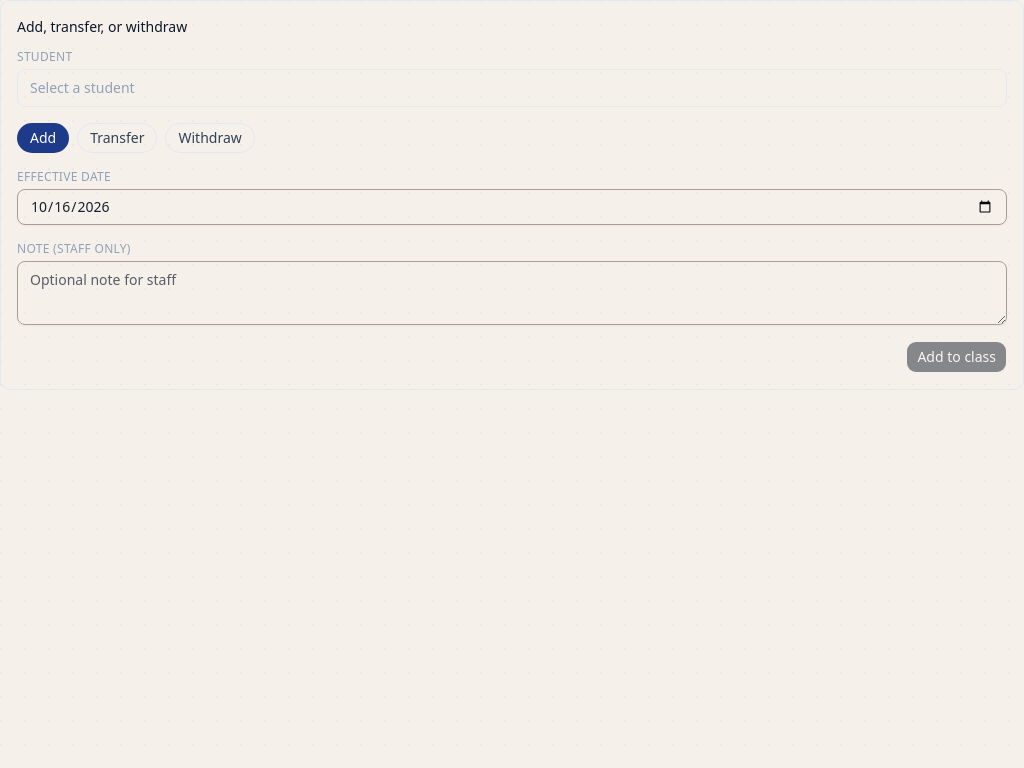
EnrolmentComposer — fields + action toggle (AC3, AC4) › P0 Add shows a target-class picker and NO source-class field
Click the button with test id "enrolment-student-combobox": click(82, 88) 17,69 -> 1007,107
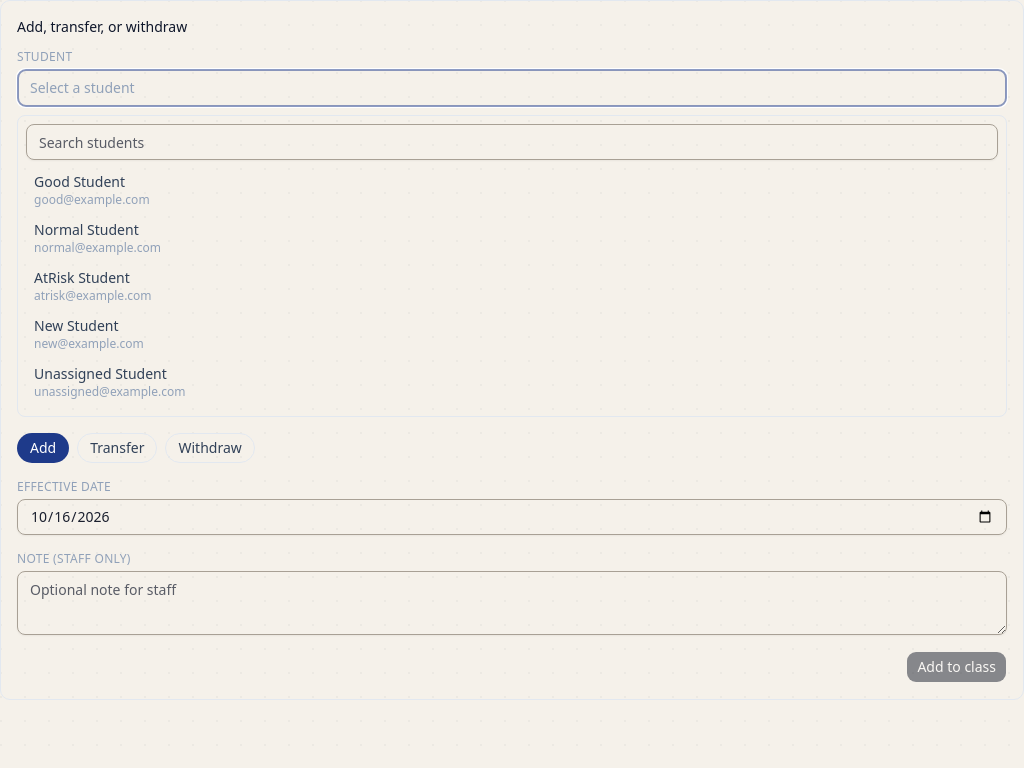
Click the option "Normal Student normal@example.com": click(86, 230) 26,216 -> 998,260
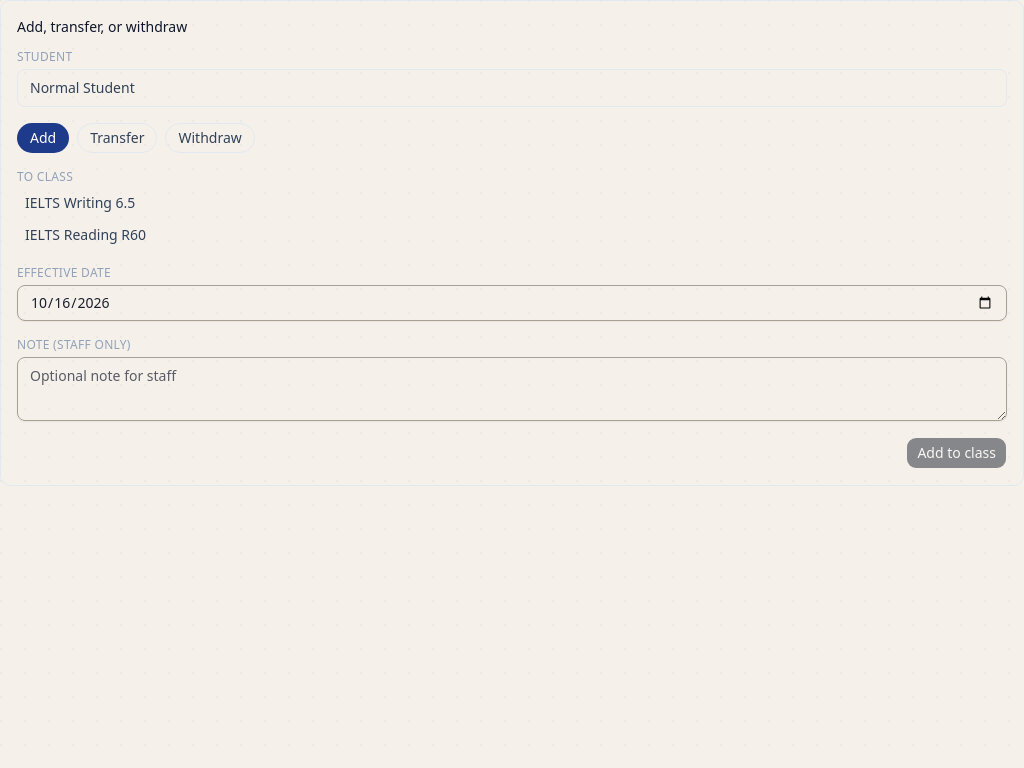
Check: the list with test id "enrolment-target-class-picker" is shown, box 17,189 -> 1007,249
